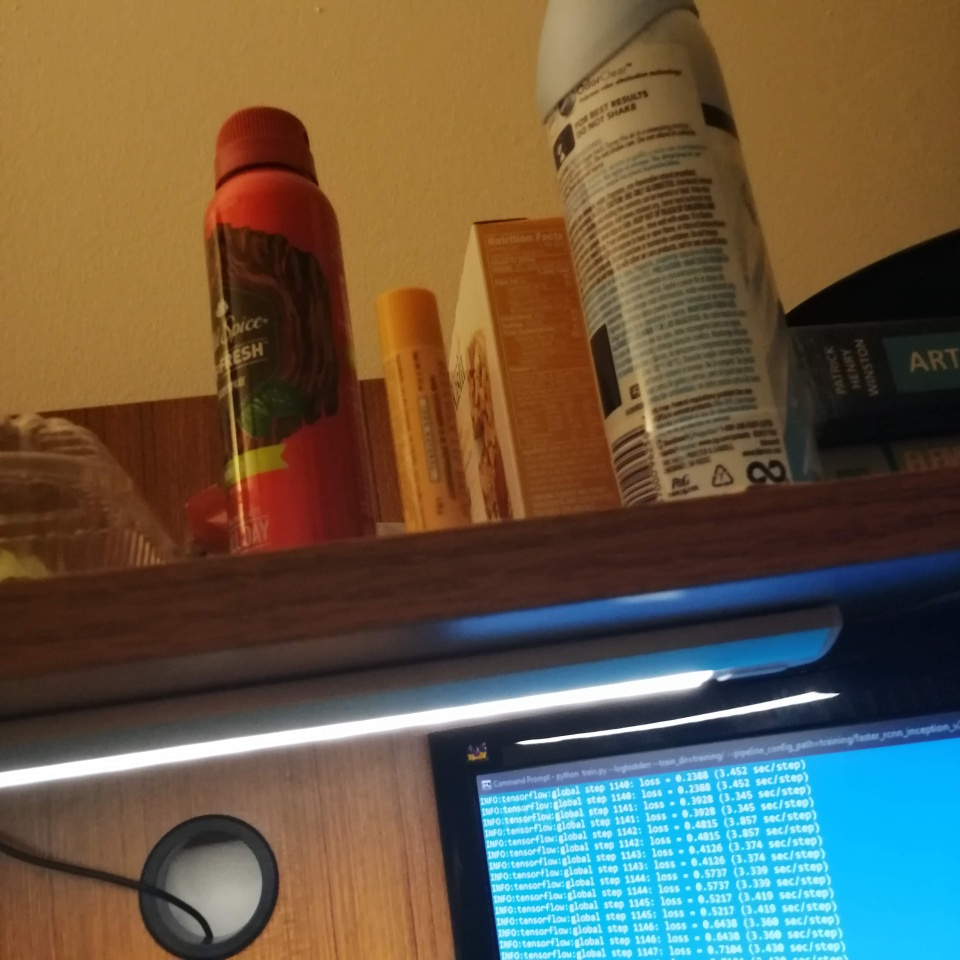chapstick: (376, 284, 474, 539)
